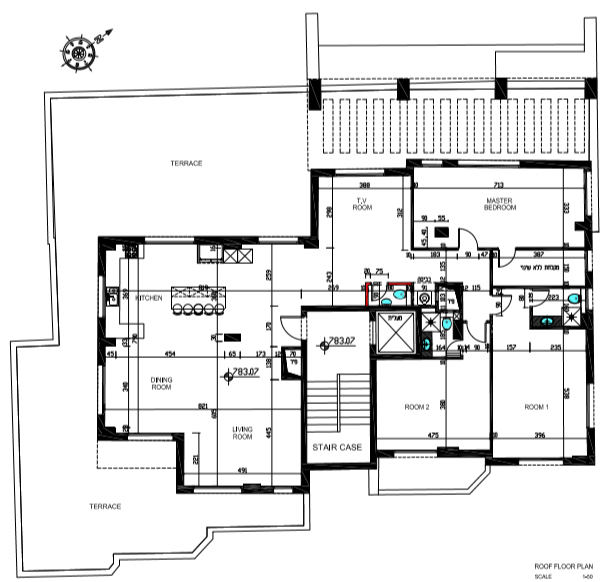door: (279, 311, 298, 344), (454, 223, 480, 246), (463, 326, 488, 347), (493, 251, 517, 271)
wall: (84, 414, 122, 451), (95, 231, 120, 265), (370, 349, 376, 463), (301, 341, 305, 490), (586, 313, 594, 383), (175, 436, 183, 494), (311, 176, 319, 234), (522, 161, 586, 168), (438, 450, 490, 457), (303, 464, 374, 469), (197, 237, 253, 243), (97, 318, 104, 363)
